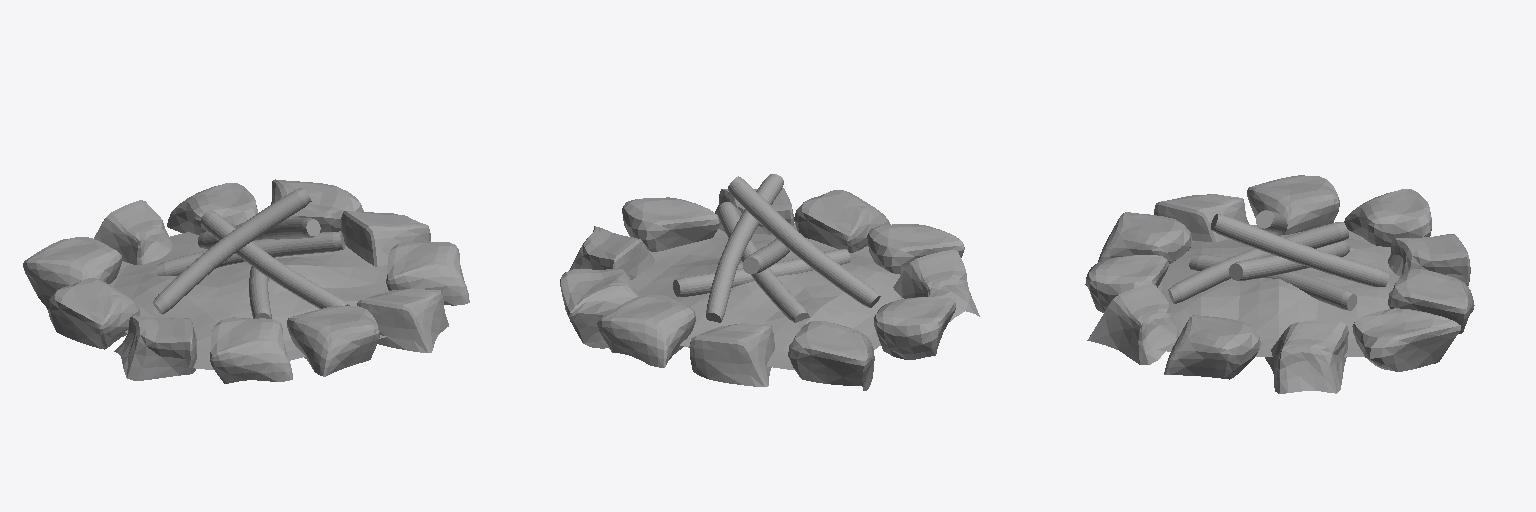
File: campfire.obj
3 renders of one model, left to right at view 1: azimuth 30°, elevation 25°; view 2: azimuth 150°, elevation 25°; view 3: azimuth 270°, elevation 25°, orthographic.
Parts seen in each view (by area): view 1: Ohniste_Circle.004; view 2: Ohniste_Circle.004; view 3: Ohniste_Circle.004.
Part boxes in pixels (left/top/right/bottom): Ohniste_Circle.004: left=23, top=179, right=469, bottom=383; Ohniste_Circle.004: left=560, top=174, right=979, bottom=390; Ohniste_Circle.004: left=1085, top=175, right=1474, bottom=393.
Size of the model in its own units: 12.07 by 3.92 by 10.84.